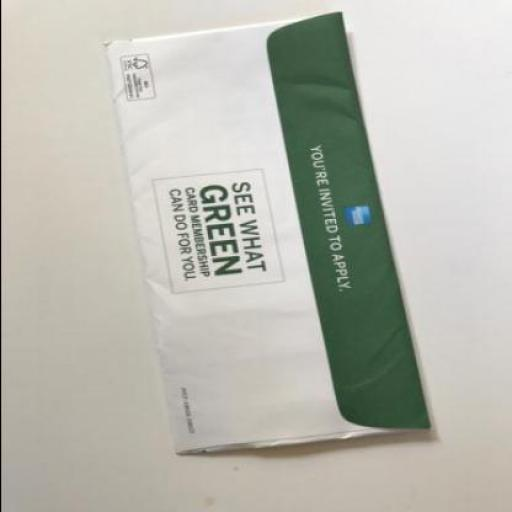paper: (103, 10, 430, 454)
